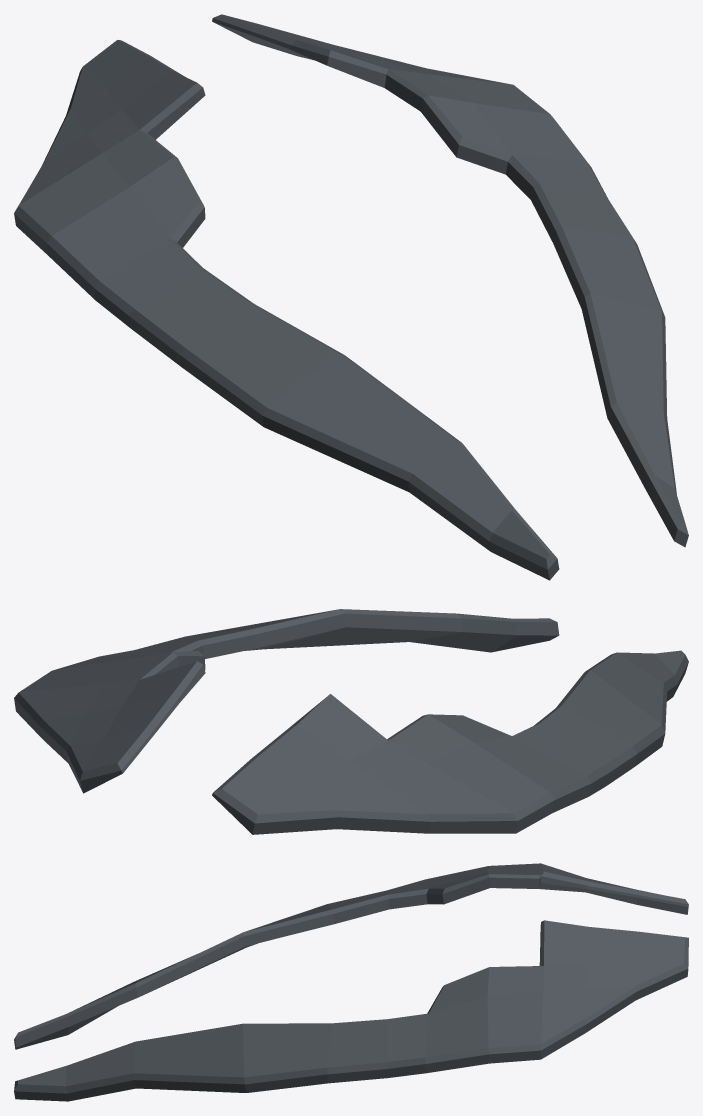
The model's file is Fighter_08_Top_Frame.fbx.
3 views of the same model, one above another, from view 1: azimuth 30°, elevation 25°; view 2: azimuth 150°, elevation 25°; view 3: azimuth 270°, elevation 25° (orthographic). The views are drawn at different scales.
Visible parts, largest first — view 1: Fighter_08_Top_Frame; view 2: Fighter_08_Top_Frame; view 3: Fighter_08_Top_Frame.
Boxes of the visible parts, box(x1,y1,x2,y2) form: Fighter_08_Top_Frame: box(14, 14, 688, 580); Fighter_08_Top_Frame: box(14, 609, 688, 834); Fighter_08_Top_Frame: box(14, 863, 688, 1101).
Size of the model in its own units: 614 by 276 by 945.
1 material, 1 textured.
